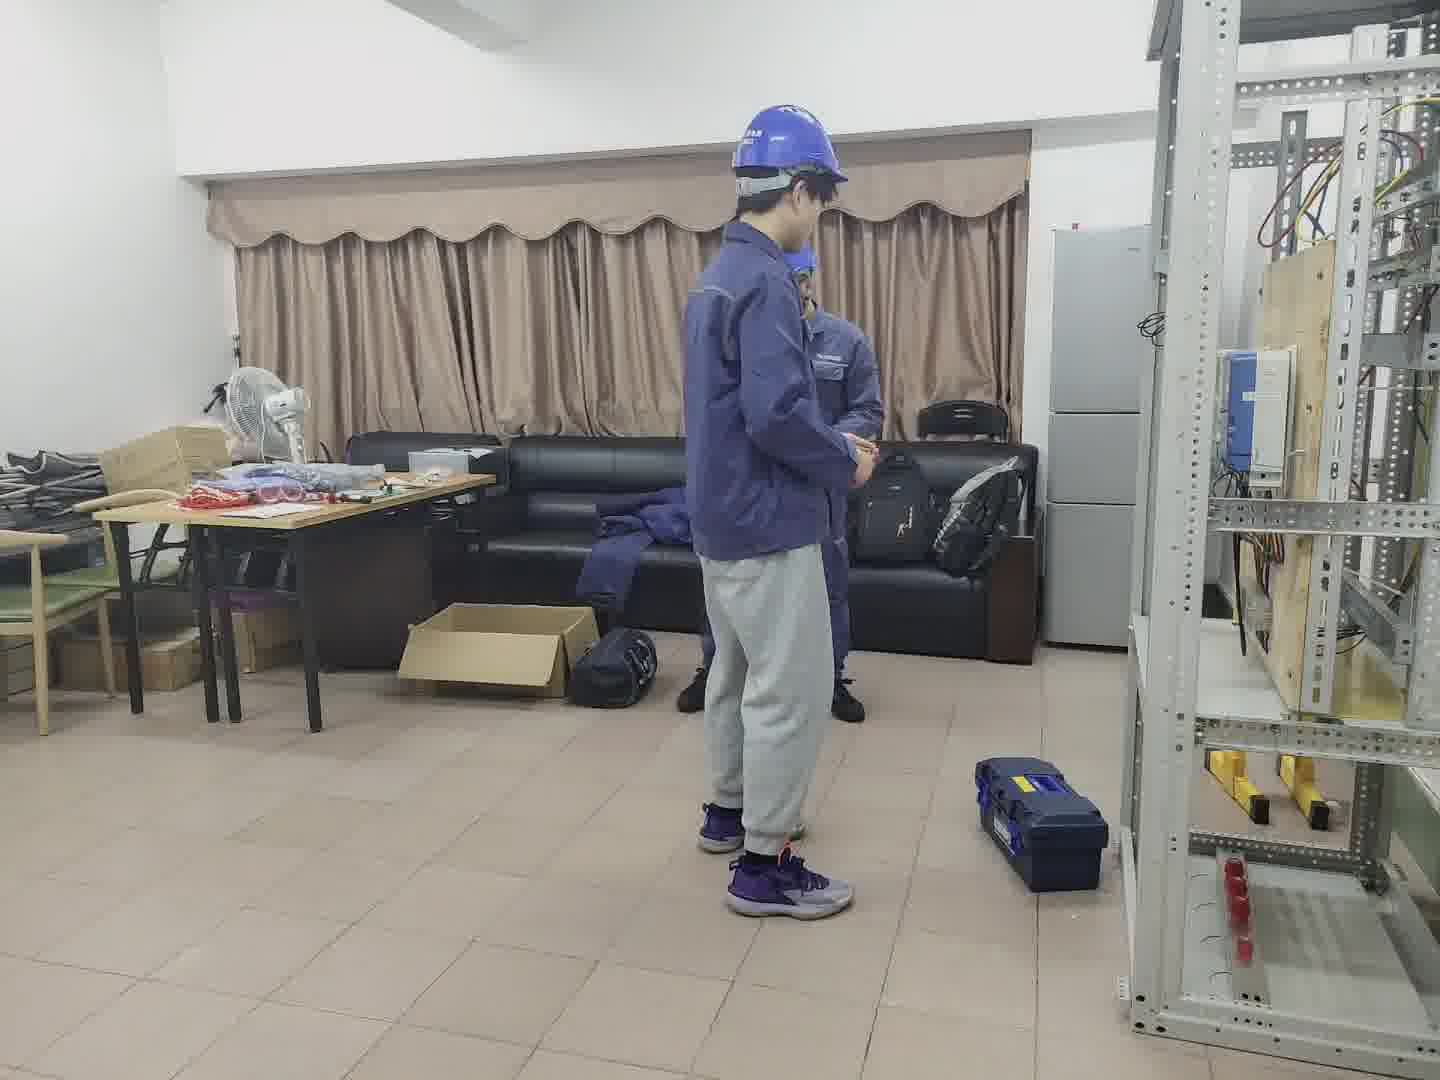downcloth: (700, 555, 831, 848)
hand: (846, 429, 877, 487)
noear: (776, 177, 822, 241)
person: (666, 98, 888, 925), (676, 249, 867, 728)
upsuit: (677, 222, 882, 543)
